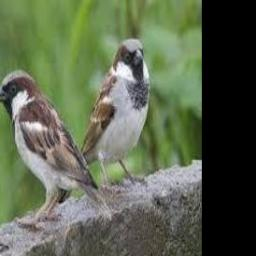Sparrow: (0, 69, 114, 224), (55, 37, 149, 202)
